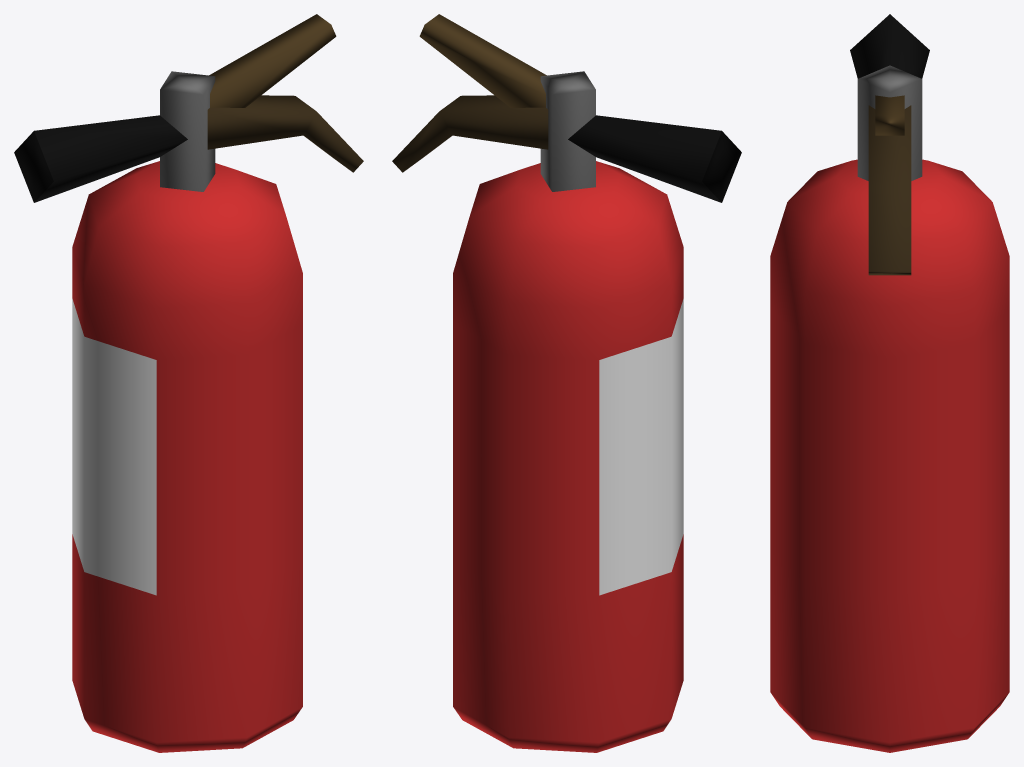
Rendered from Fire_extinguisher 1.fbx.
The picture shows the model from 3 angles, left to right: view 1: azimuth 30°, elevation 25°; view 2: azimuth 150°, elevation 25°; view 3: azimuth 270°, elevation 25°; orthographic projection.
Parts seen in each view (by area): view 1: polySurface6; view 2: polySurface6; view 3: polySurface6.
Part boxes in pixels (left/top/right/bottom): polySurface6: left=14, top=14, right=363, bottom=752; polySurface6: left=392, top=14, right=741, bottom=752; polySurface6: left=770, top=14, right=1009, bottom=752.
Bounding box in the file's own units: 0.5445 × 1.07 × 0.3524.
Materials: 1 (1 with a texture image).
